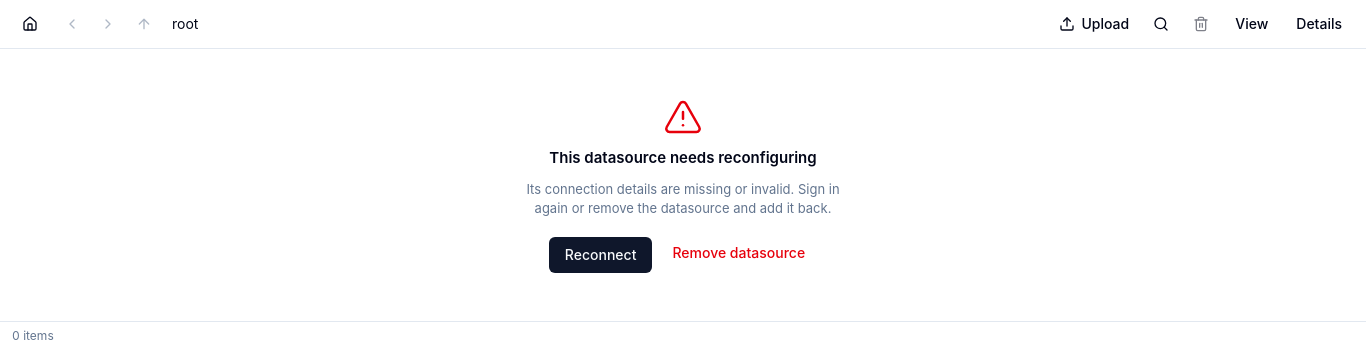
FileExplorer composite (Subagent P) › invalid-datasource → Reconnect → auth-completed → entries render
This screenshot has width=1366, height=357.
Check: the message with test id "file-explorer-state-invalid-datasource" is shown, box [526,97,840,272]
Click the button "Reconnect" at [601, 254], box [549,236,652,272]
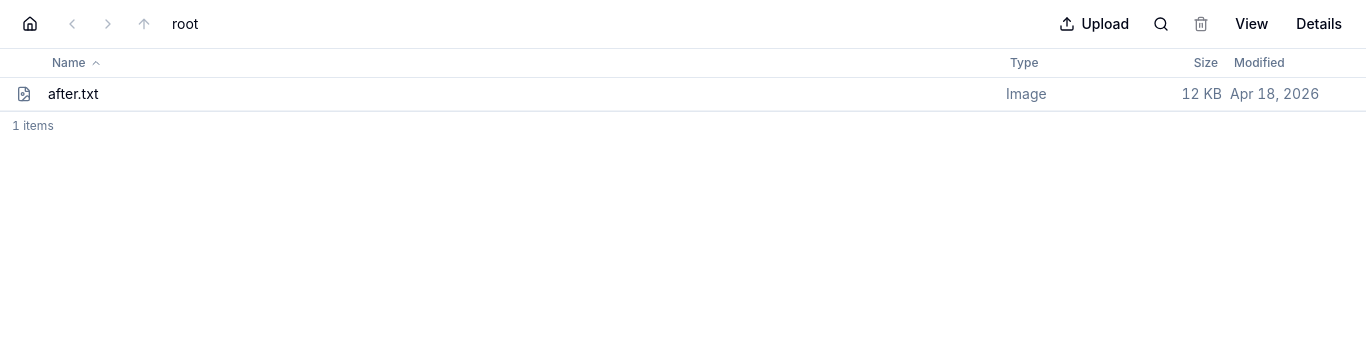
Check: the message with test id "file-explorer-state-invalid-datasource" is gone
Check: the number of rows with test id "explorer-row" is 1, box [0,78,1365,111]
